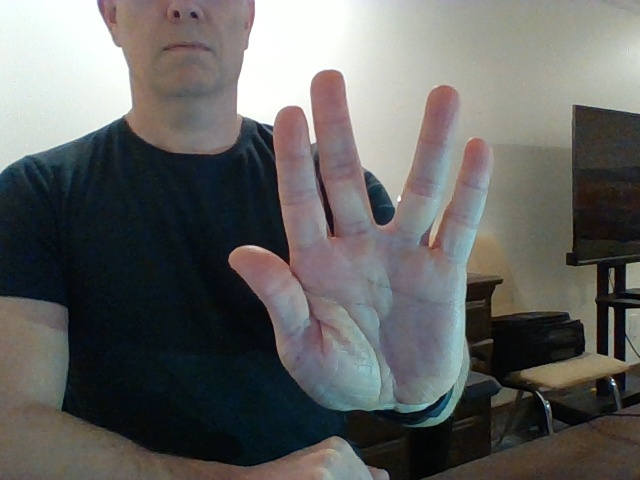LiveLong: (228, 68, 492, 411)
